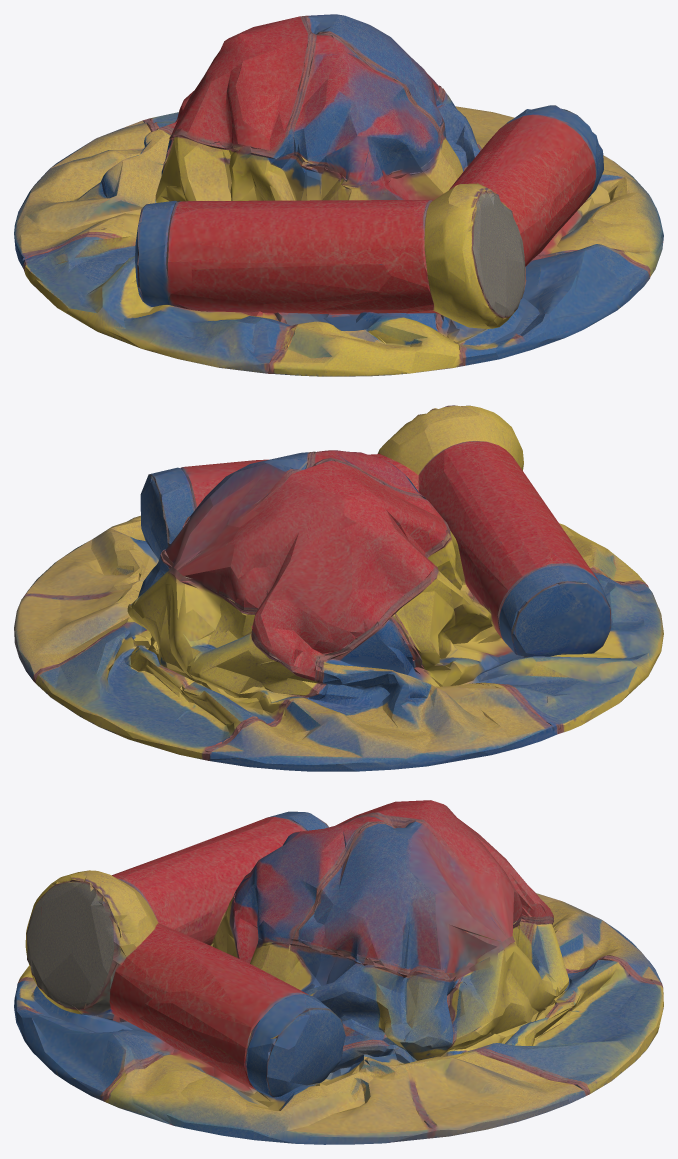
File: deflated_castle.glb
3 views of the same model, one above another, from view 1: azimuth 30°, elevation 25°; view 2: azimuth 150°, elevation 25°; view 3: azimuth 270°, elevation 25° (orthographic).
Size of the model in its own units: 1.89 by 0.6186 by 1.9.
1 material, 1 textured.
